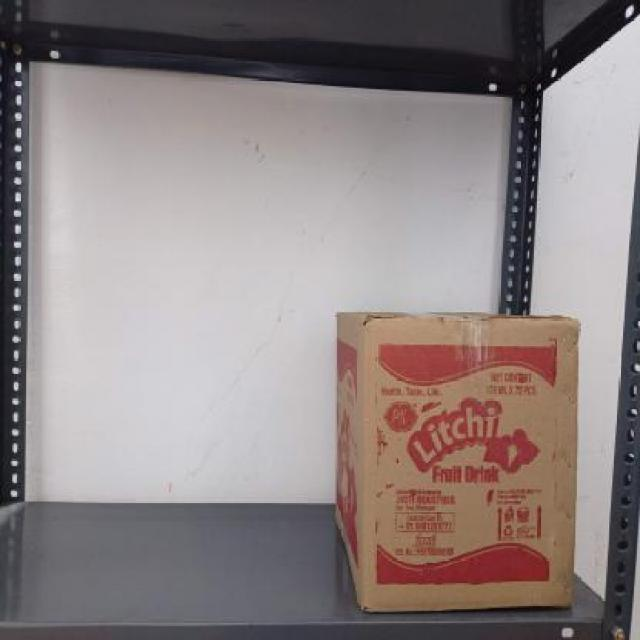box: (359, 314, 576, 610)
